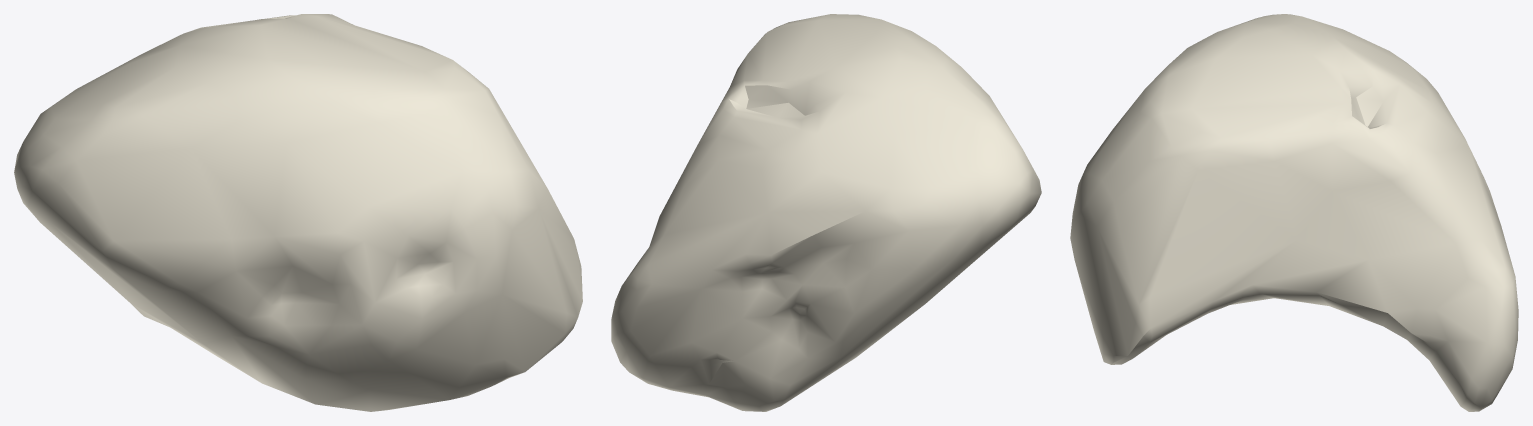
The model's file is fma24438.glb.
The picture shows the model from 3 angles, left to right: view 1: azimuth 30°, elevation 25°; view 2: azimuth 150°, elevation 25°; view 3: azimuth 270°, elevation 25°; orthographic projection. The views are drawn at different scales.
Visible parts, largest first — view 1: FMA24438; view 2: FMA24438; view 3: FMA24438.
Part boxes in pixels (x1=…): FMA24438: x1=14, y1=14, x2=582, y2=411; FMA24438: x1=611, y1=14, x2=1041, y2=411; FMA24438: x1=1070, y1=14, x2=1518, y2=411.
Size of the model in its own units: 0.0167 by 0.013 by 0.0168.
